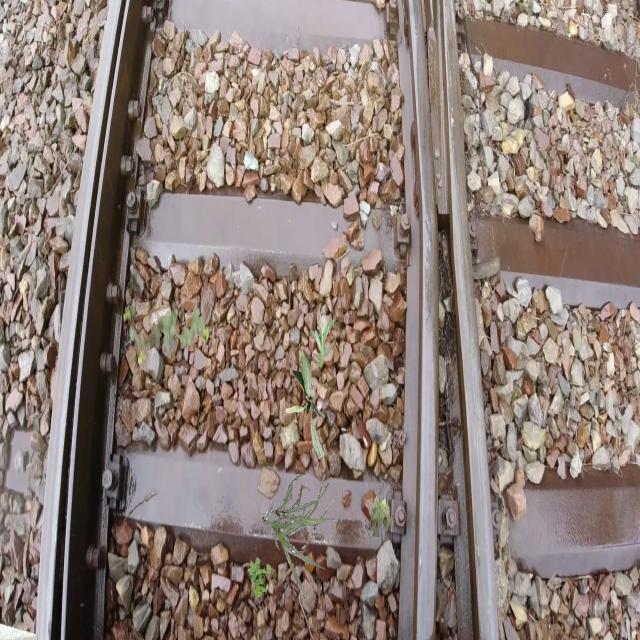Plant: (263, 474, 336, 598), (123, 298, 210, 366), (286, 350, 326, 460), (310, 312, 337, 368), (368, 495, 394, 538), (248, 557, 272, 598)
